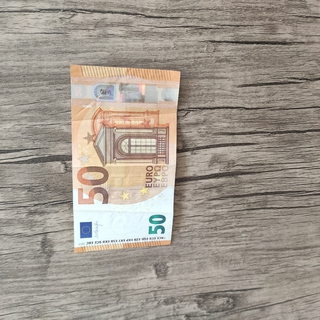50EUROFront: (69, 63, 182, 254)
